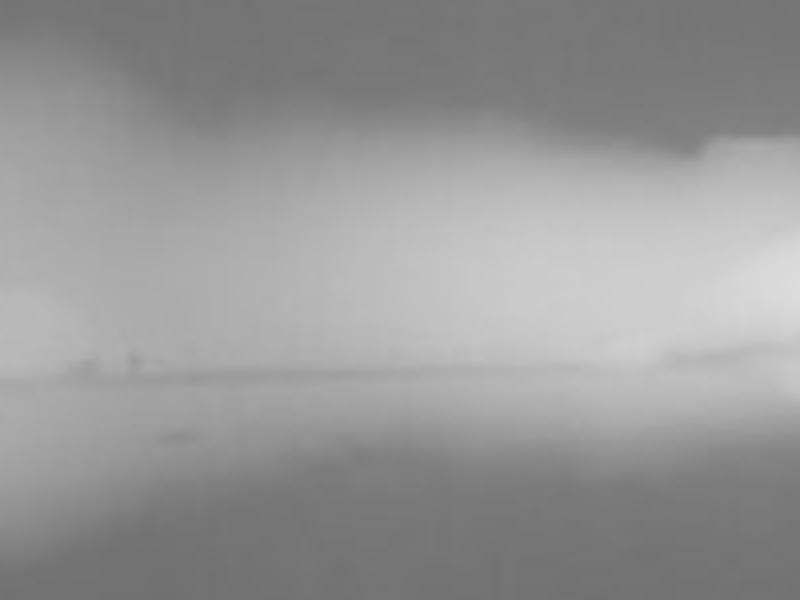defect: (160, 426, 201, 442), (68, 354, 94, 376), (125, 345, 147, 369)
